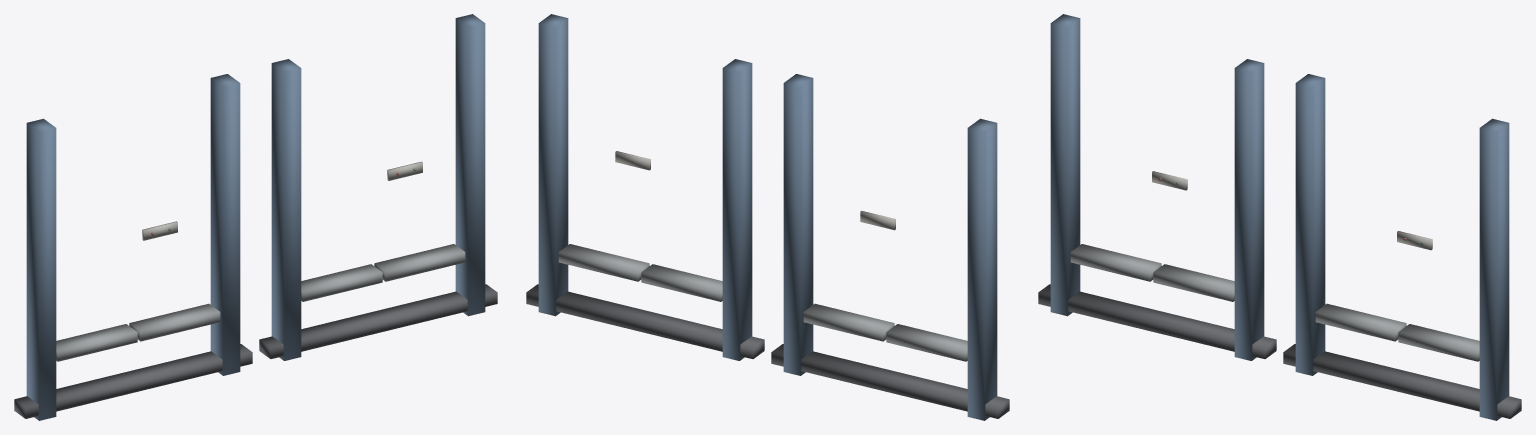
File: two_post_car_lift__cluster.glb
3 views of the same model, side by side, from view 1: azimuth 30°, elevation 25°; view 2: azimuth 150°, elevation 25°; view 3: azimuth 330°, elevation 25° (orthographic).
Parts seen in each view (by area): view 1: world; view 2: world; view 3: world.
Boxes of the visible parts, x1,y1,x2,y2 form: world: (14,14,497,420); world: (526,14,1009,420); world: (1038,14,1521,420).
Bounding box in the file's own units: 3.85 × 2.25 × 0.211.
